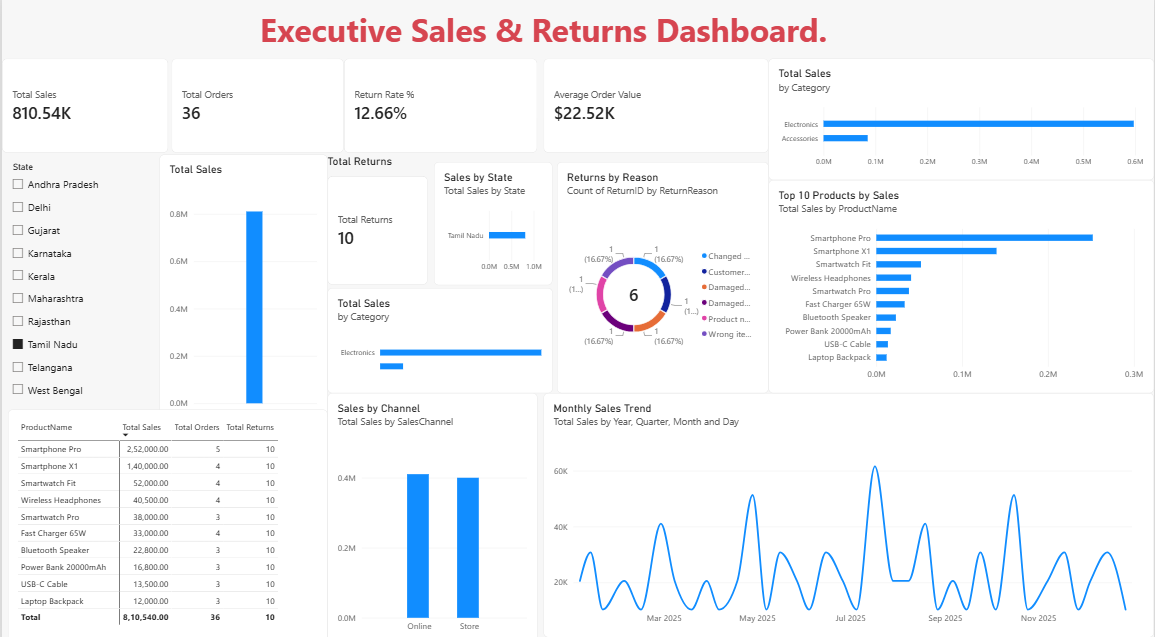

Layout of this report page (visuals, bound fields, positions):
{"tool":"powerbi","page":{"name":"Page 1","canvas":[1920,1080],"ordinal":0},"visuals":[{"type":"cardVisual","fields":{"Data":["Customers.Total Sales"]},"box":[0,102.5,277.5,157.5],"z":0},{"type":"clusteredBarChart","fields":{"Category":["Products (1).Category"],"Y":["Customers.Total Sales"]},"box":[1277.5,102.5,642.5,202.5],"z":1000},{"type":"slicer","fields":{"Values":["Customers.State"]},"box":[10,275,257.5,412.5],"z":2000},{"type":"cardVisual","fields":{"Data":["Customers.Return Rate %"]},"box":[570,102.5,322.5,157.5],"z":3000},{"type":"cardVisual","fields":{"Data":["Customers.Total Orders"]},"box":[282.5,102.5,287.5,157.5],"z":4000},{"type":"clusteredColumnChart","fields":{"Y":["Customers.Total Sales"]},"box":[262.5,262.5,280,443],"z":5000},{"type":"textbox","box":[430,17.5,1182.5,110],"z":6000},{"type":"pivotTable","fields":{"Rows":["Products (1).ProductName"],"Values":["Customers.Total Sales","Customers.Total Orders","Customers.Total Returns"]},"box":[10,687.5,532.5,392.5],"z":7000},{"type":"cardVisual","fields":{"Data":["Customers.Average Order Value"]},"box":[902.5,102.5,375,157.5],"z":8000},{"type":"lineChart","title":"Monthly Sales Trend","fields":{"Category":["Sales (2).OrderDate.Variation.Date Hierarchy.Year","Sales (2).OrderDate.Variation.Date Hierarchy.Quarter","Sales (2).OrderDate.Variation.Date Hierarchy.Month","Sales (2).OrderDate.Variation.Date Hierarchy.Day"],"Y":["Customers.Total Sales"]},"box":[902.5,660,1017.5,407.5],"z":9000},{"type":"clusteredBarChart","fields":{"Category":["Products (1).Category"],"Y":["Customers.Total Sales"]},"box":[542.5,485,375,175],"z":10000},{"type":"cardVisual","title":"Total Returns","fields":{"Data":["Customers.Total Returns"]},"box":[542.5,262.5,167.5,217.5],"z":10002},{"type":"clusteredBarChart","title":"Top 10 Products by Sales","fields":{"Category":["Products (1).ProductName"],"Y":["Customers.Total Sales"]},"box":[1277.5,305,642.5,355],"z":10003},{"type":"donutChart","title":"Returns by Reason","fields":{"Category":["Returns.ReturnReason"],"Y":["CountNonNull(Returns.ReturnID)"]},"box":[925,275,352.5,385],"z":10004},{"type":"clusteredColumnChart","title":"Sales by Channel","fields":{"Category":["Sales (2).SalesChannel"],"Y":["Customers.Total Sales"]},"box":[542.5,660,350,420],"z":10005},{"type":"clusteredBarChart","title":"Sales by State","fields":{"Category":["Customers.State"],"Y":["Customers.Total Sales"]},"box":[720,275,197.5,205],"z":10006}]}

Visuals, with their boxes in screenshot pixels (x1, y1, x2, y2), scaled from the page's 1920x1080 canvas onto the 1155x637 screenshot:
cardVisual - Customers.Total Sales: left=0, top=60, right=167, bottom=153
clusteredBarChart - Products (1).Category x Customers.Total Sales: left=768, top=60, right=1154, bottom=180
slicer - Customers.State: left=6, top=162, right=161, bottom=405
cardVisual - Customers.Return Rate %: left=343, top=60, right=537, bottom=153
cardVisual - Customers.Total Orders: left=170, top=60, right=343, bottom=153
clusteredColumnChart - Customers.Total Sales: left=158, top=155, right=326, bottom=416
textbox: left=259, top=10, right=970, bottom=75
pivotTable - Products (1).ProductName x Customers.Total Sales: left=6, top=405, right=326, bottom=636
cardVisual - Customers.Average Order Value: left=543, top=60, right=768, bottom=153
"Monthly Sales Trend" lineChart: left=543, top=389, right=1154, bottom=630
clusteredBarChart - Products (1).Category x Customers.Total Sales: left=326, top=286, right=552, bottom=389
"Total Returns" cardVisual: left=326, top=155, right=427, bottom=283
"Top 10 Products by Sales" clusteredBarChart: left=768, top=180, right=1154, bottom=389
"Returns by Reason" donutChart: left=556, top=162, right=768, bottom=389
"Sales by Channel" clusteredColumnChart: left=326, top=389, right=537, bottom=636
"Sales by State" clusteredBarChart: left=433, top=162, right=552, bottom=283
